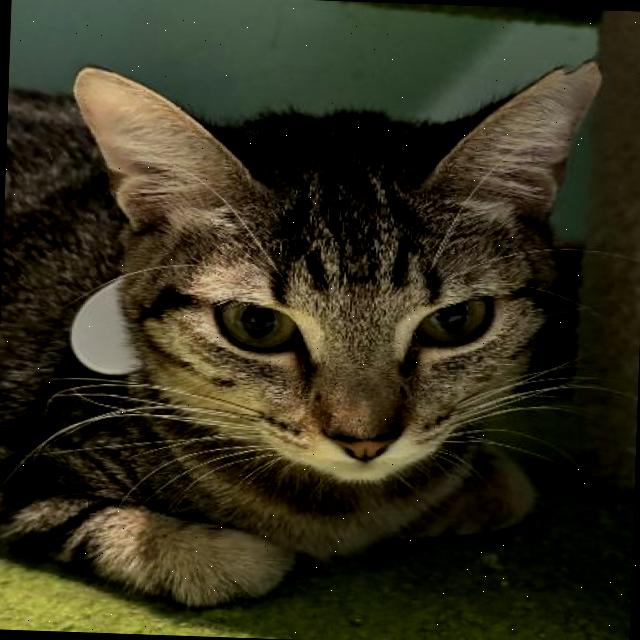domestic_short_hair_cat: (46, 20, 618, 512)
